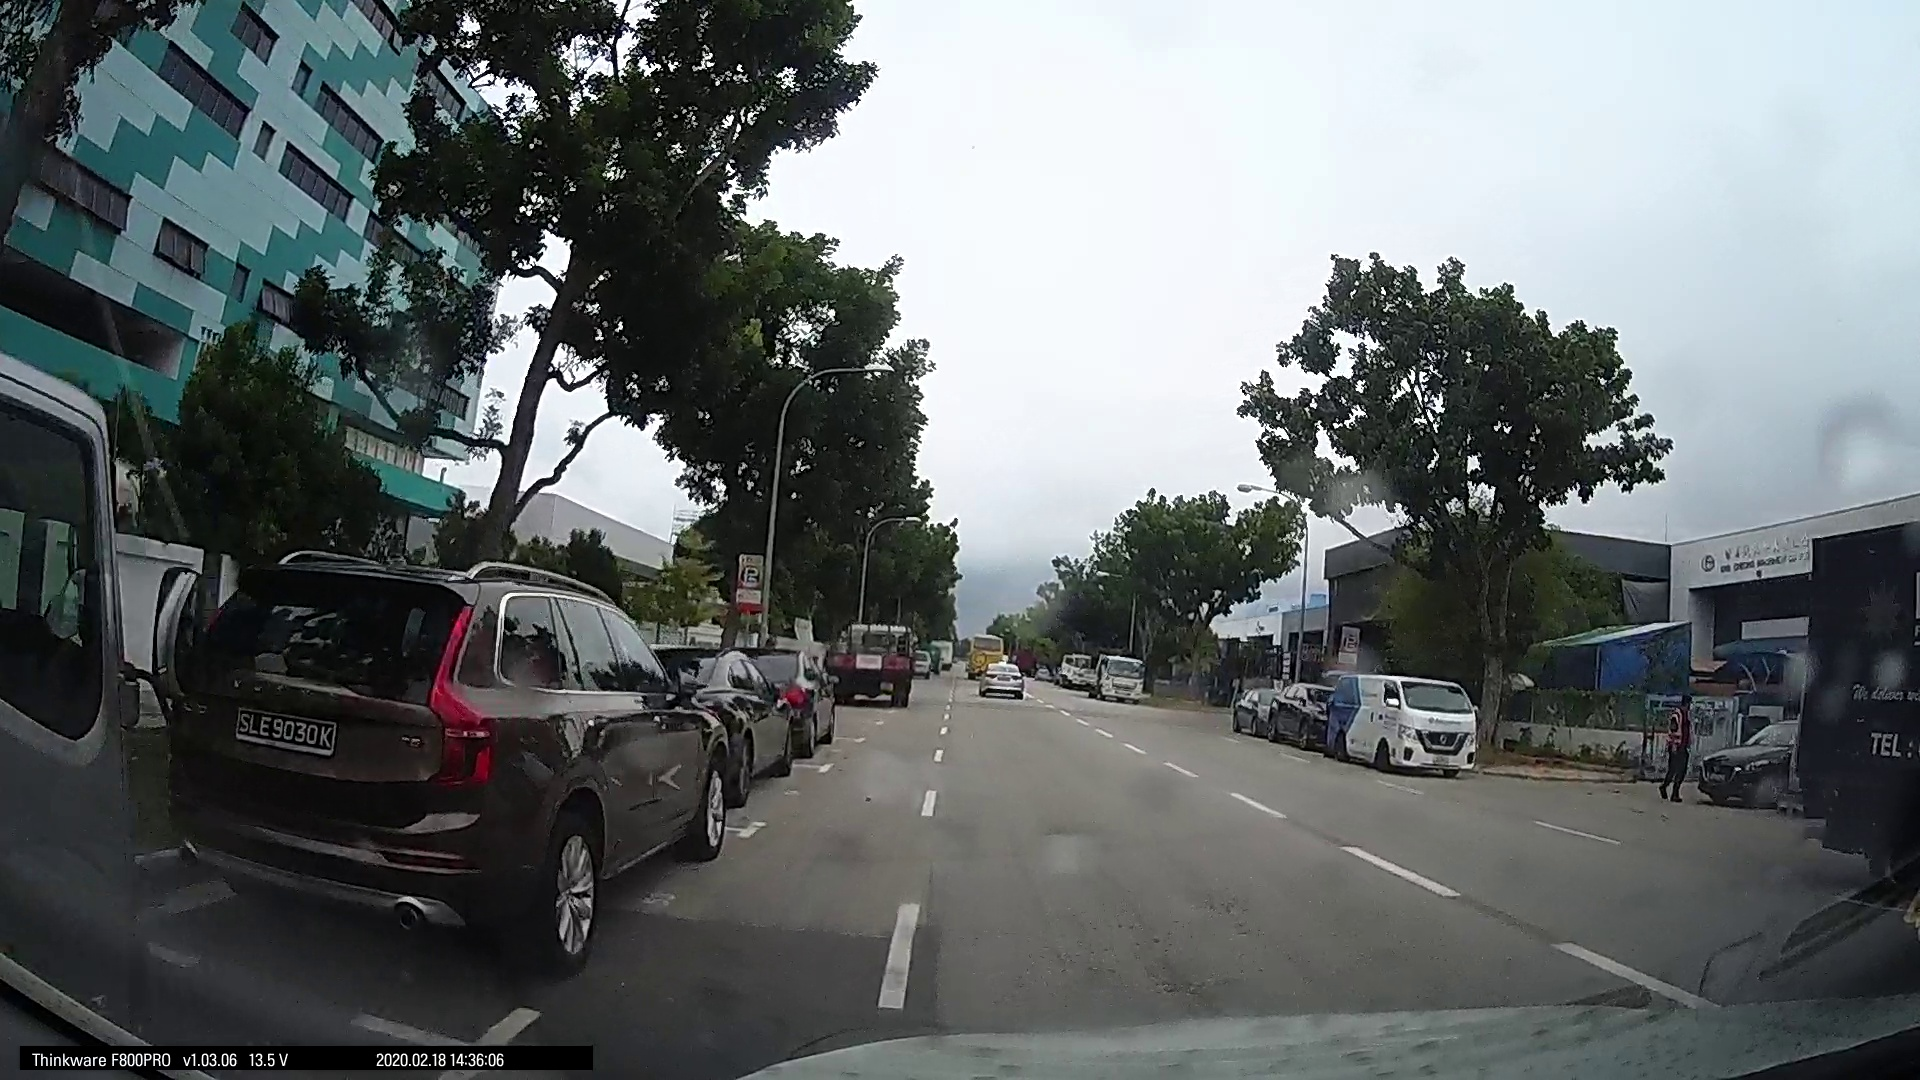Heavy Vehicle: (828, 621, 911, 704)
Light Vehicle: (157, 550, 728, 953), (1328, 669, 1482, 778), (704, 651, 791, 796), (749, 640, 832, 760), (1693, 719, 1796, 806), (825, 621, 913, 704), (1087, 647, 1145, 702), (973, 655, 1025, 698)
